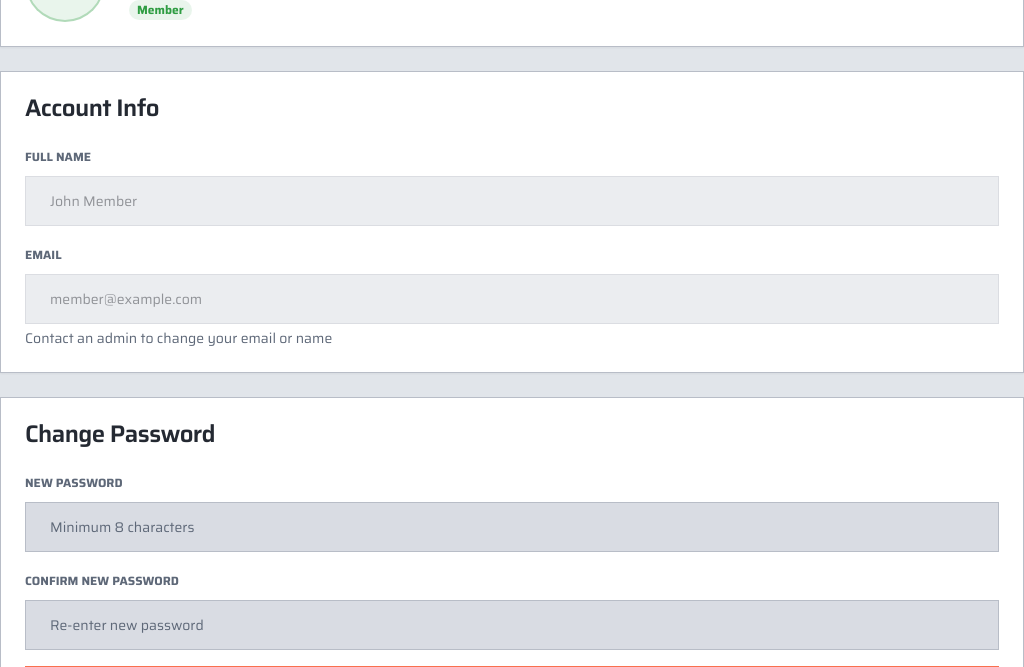
Scenario: Member ProfileForm › disables the button while loading
This screenshot has width=1024, height=667.
Type "newpassword123" into the password field with placeholder "Minimum 8 characters".
click(512, 527); type("newpassword123")  # box top-left (25, 502), bottom-right (999, 552)
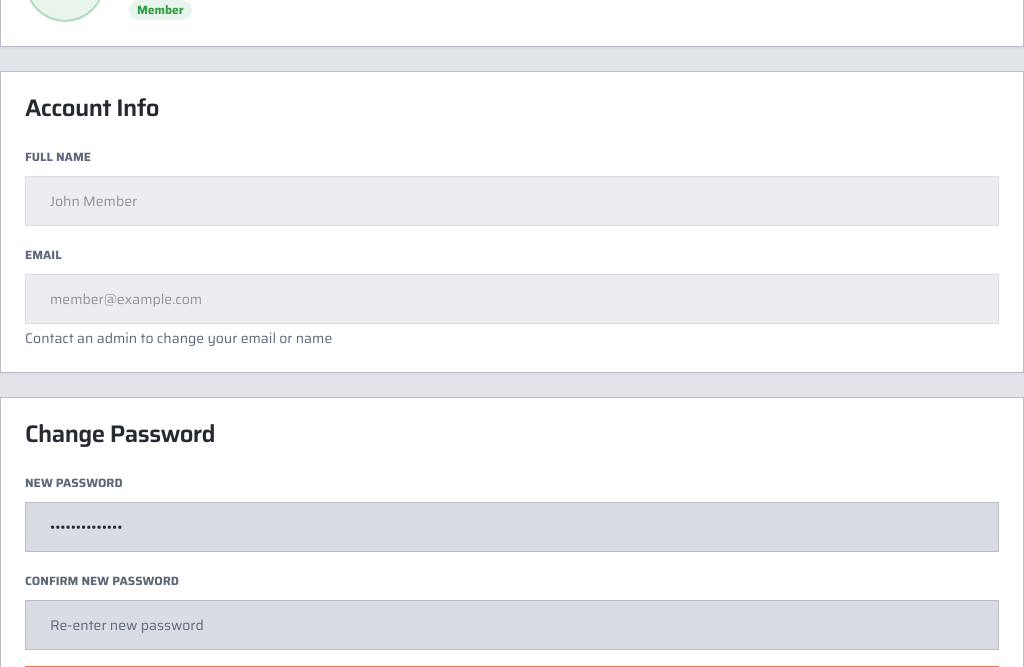
Type "newpassword123" into the password field with placeholder "Re-enter new password".
click(512, 625); type("newpassword123")  # box top-left (25, 600), bottom-right (999, 650)
(page scrolled)
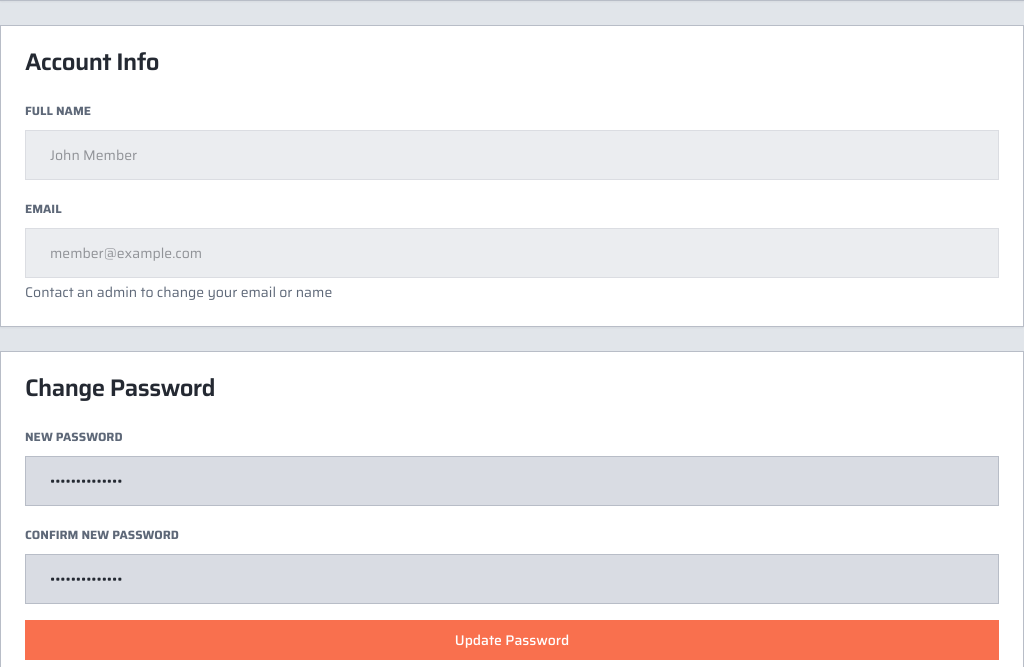
Note: Store reference before clicking — text changes to "Updating..." when loading
Click the button "Update Password".
click(512, 640)  # box top-left (25, 620), bottom-right (999, 660)
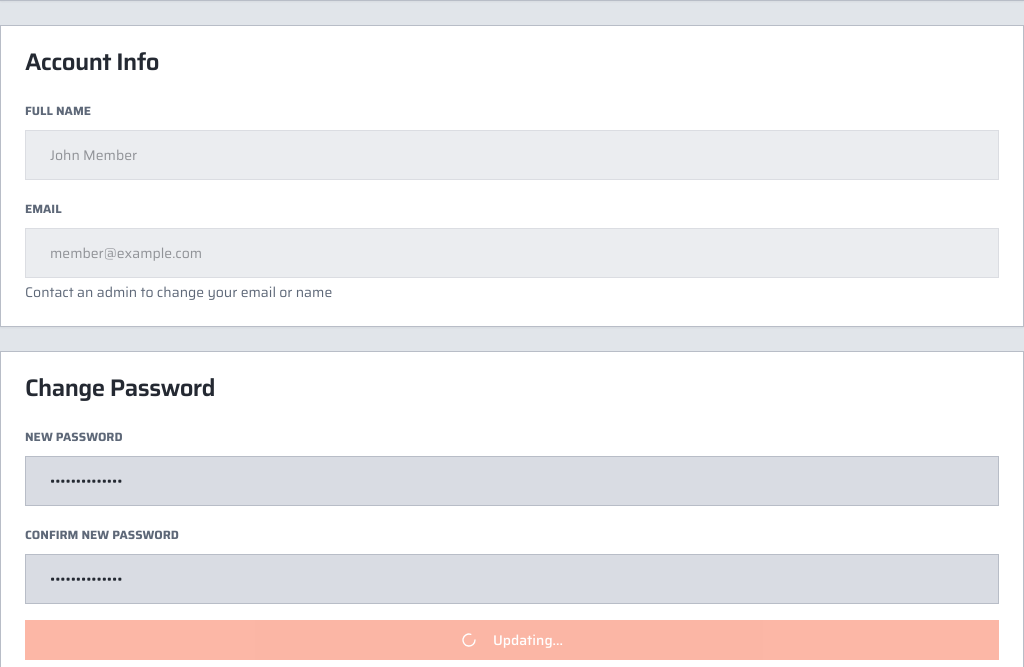
Check: the button named "update password" is disabled, box top-left (25, 620), bottom-right (999, 660)
